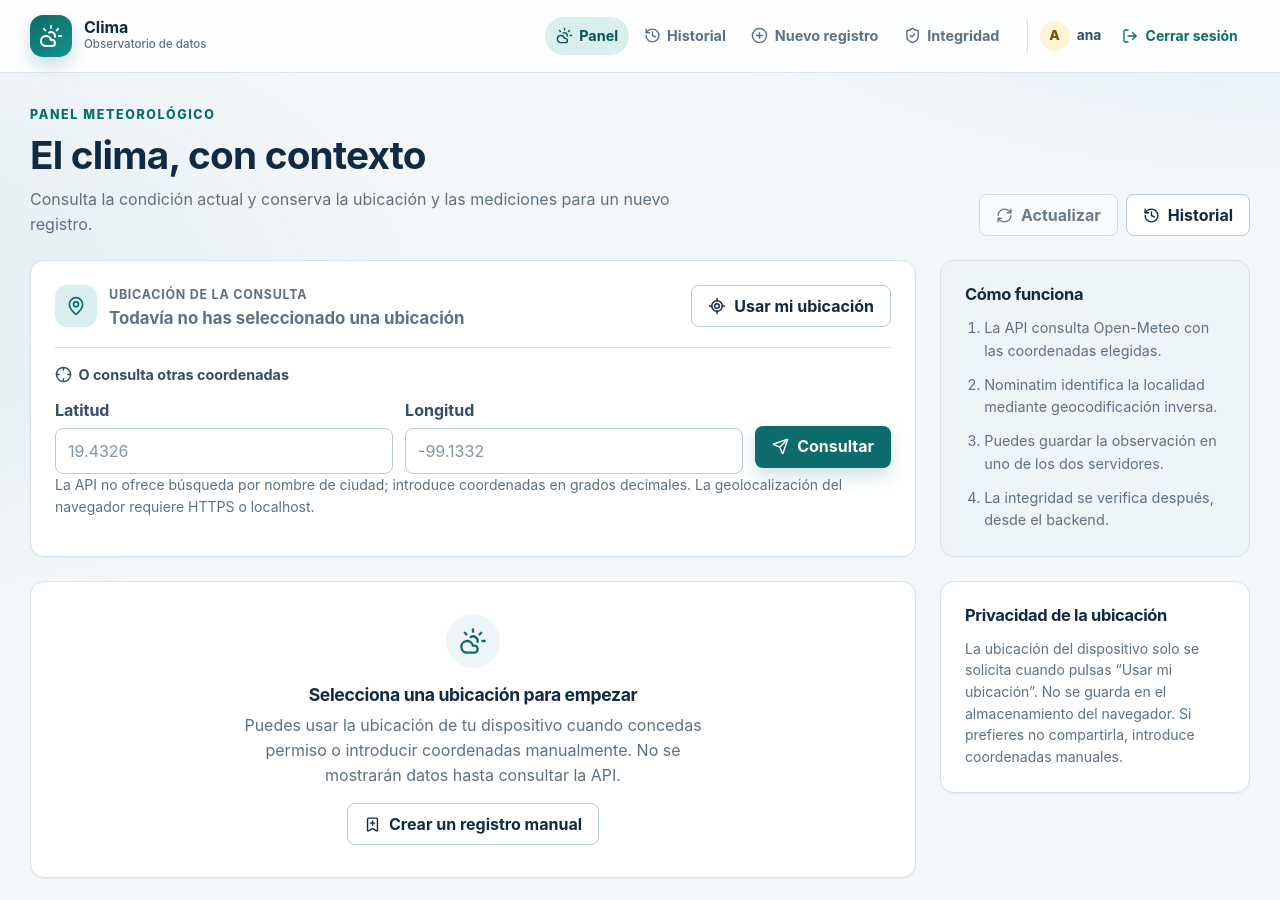
flujo de autenticación › cierra la sesión mediante el endpoint real
Check: the heading "El clima, con contexto" is shown, box [30, 131, 426, 178]
Click the button "Cerrar sesión" at {"x": 1180, "y": 36}, box [1109, 19, 1250, 53]
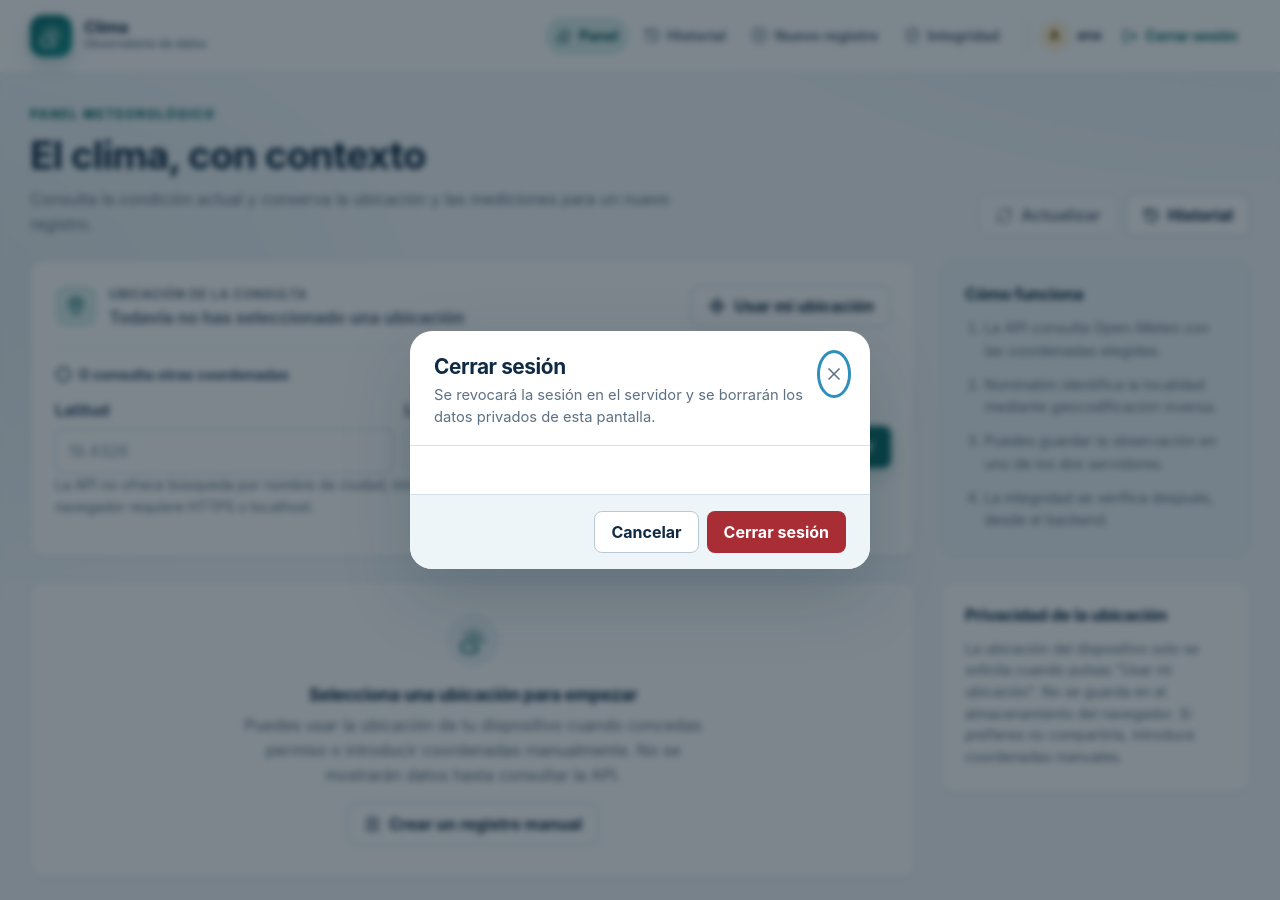
Click the button "Cerrar sesión" at {"x": 776, "y": 532}, box [706, 511, 846, 553]
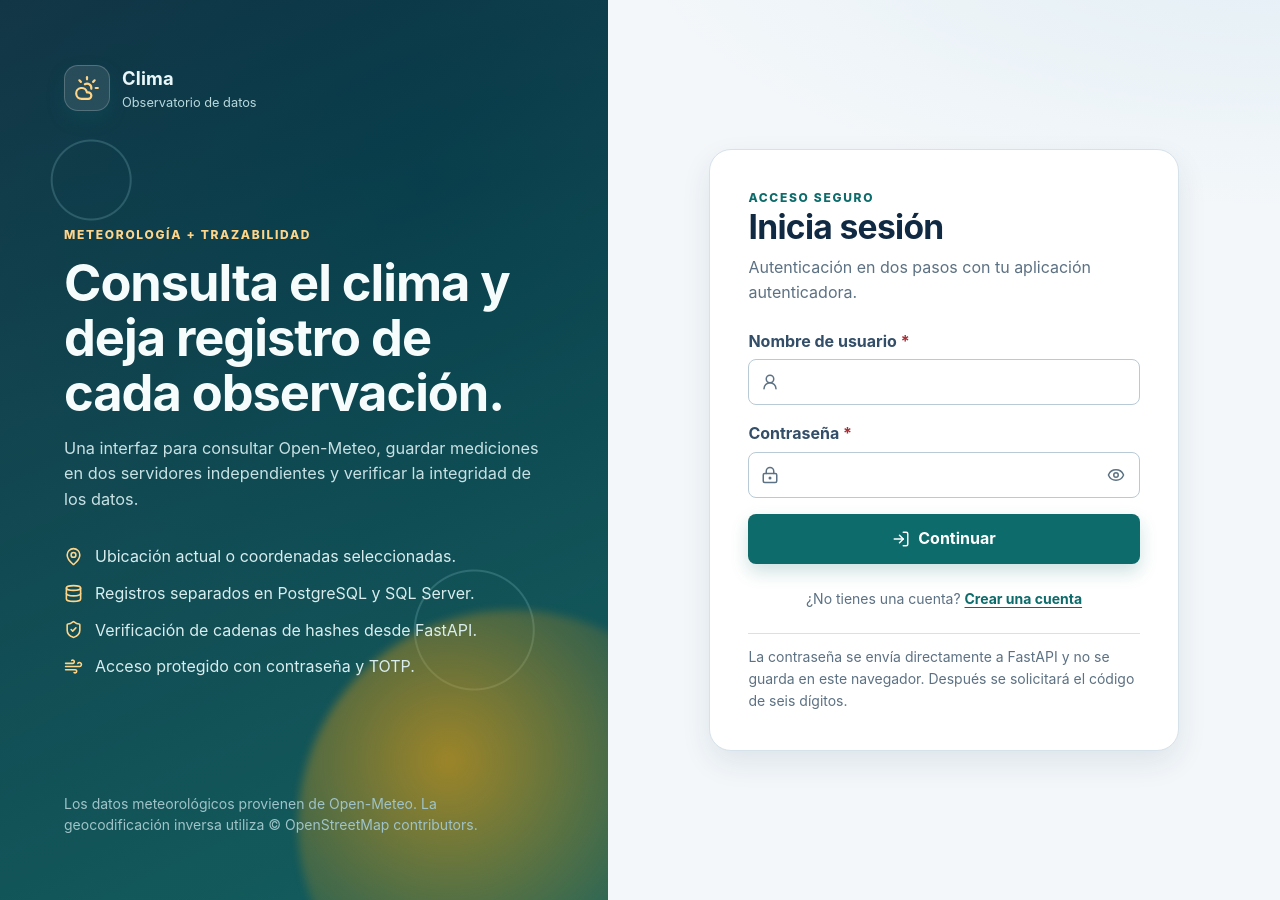
Check: the heading "Inicia sesión" is shown, box [748, 206, 944, 247]
